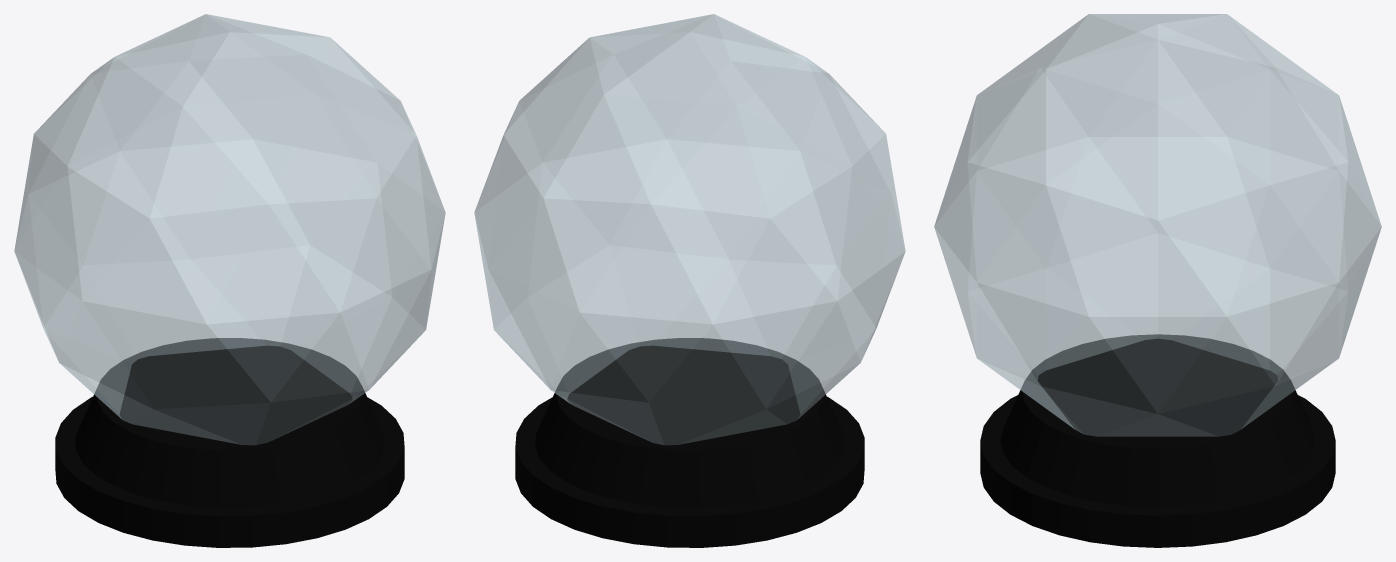
Rendered from hot-cold.glb.
The picture shows the model from 3 angles, left to right: view 1: azimuth 30°, elevation 25°; view 2: azimuth 150°, elevation 25°; view 3: azimuth 270°, elevation 25°; orthographic projection.
Visible parts, largest first — view 1: Icosphere; view 2: Icosphere; view 3: Icosphere.
Part boxes in pixels (<box>): Icosphere: <box>14,14,445,547</box>; Icosphere: <box>474,14,905,547</box>; Icosphere: <box>934,14,1381,547</box>.
Size of the model in its own units: 0.9511 by 1.11 by 1.
Materials: 2 (1 with a texture image).
